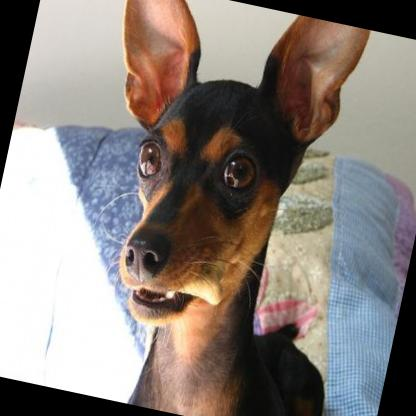miniature_pinscher: (42, 0, 401, 416)
